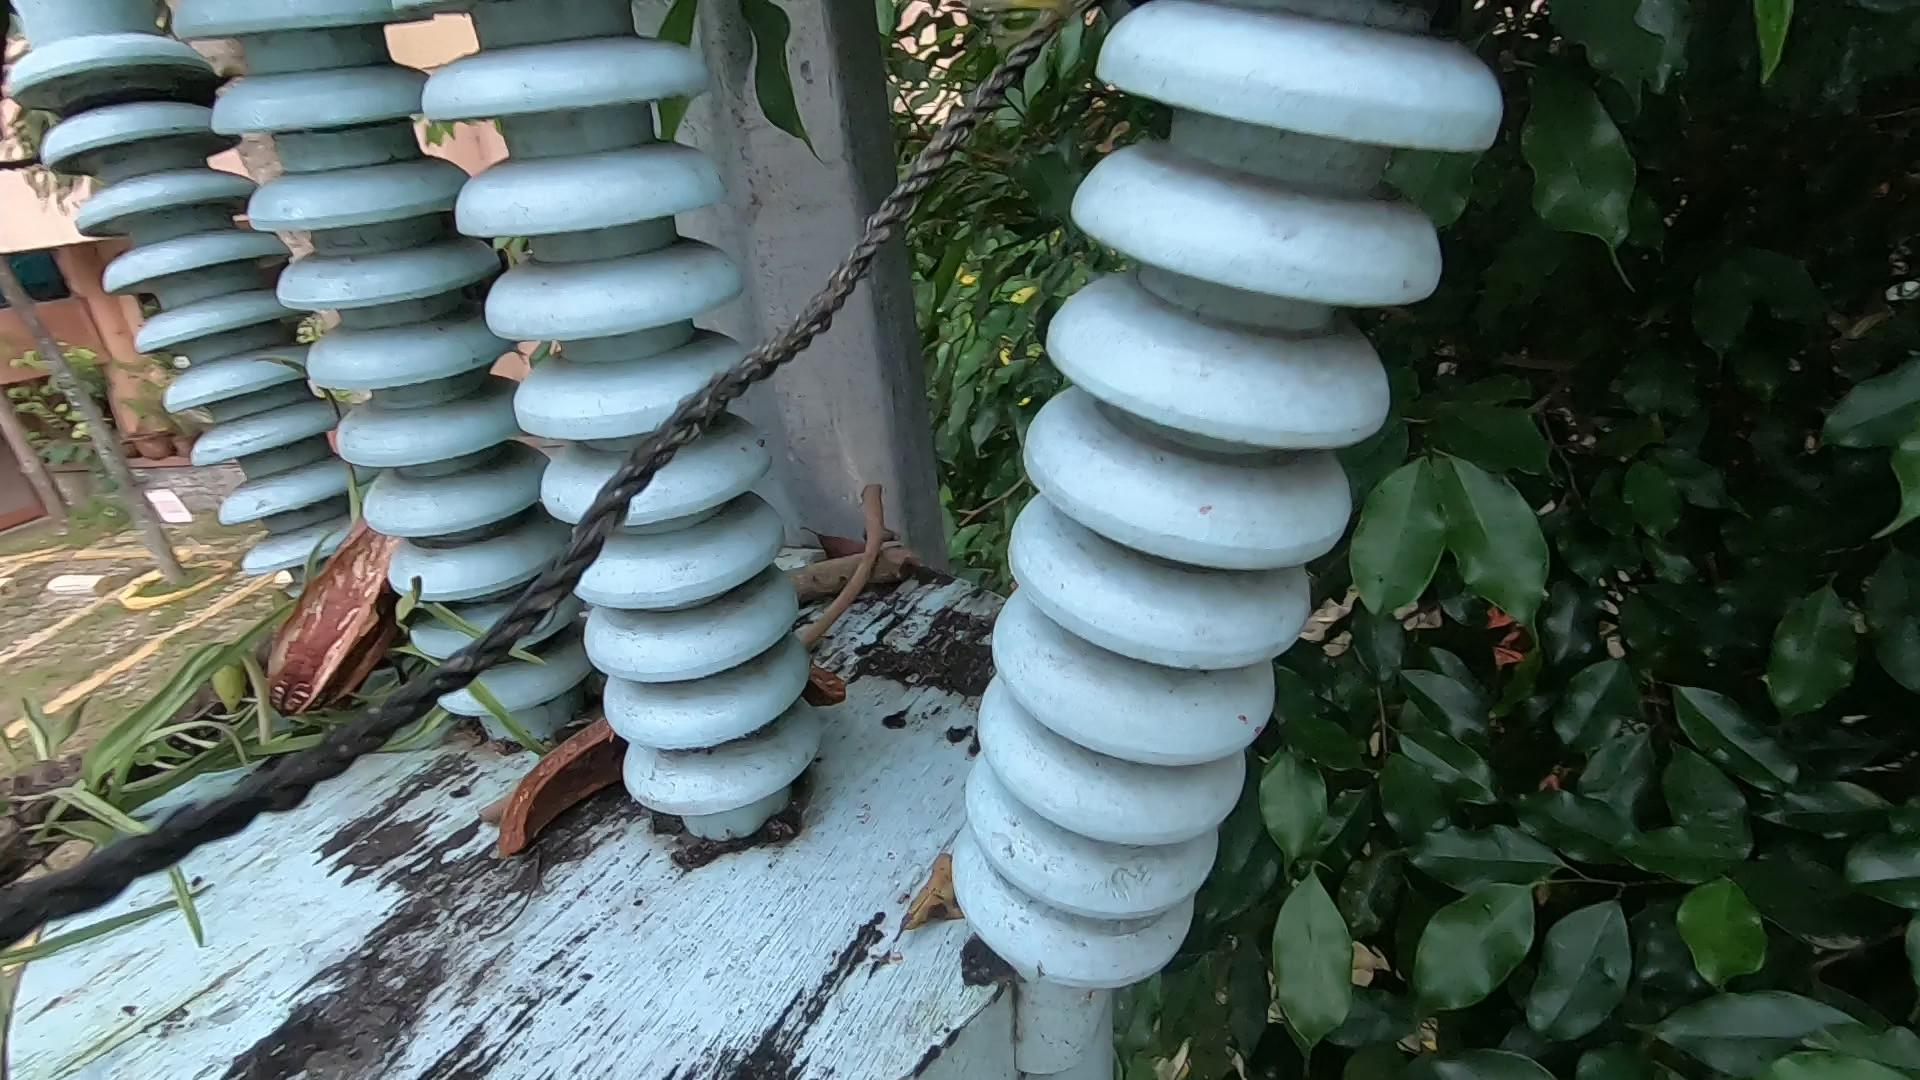branch with leaves: (20, 222, 909, 986)
leaf: (880, 822, 986, 982)
mahogany fruit: (258, 496, 414, 676), (520, 749, 687, 911)
tree branch: (440, 433, 880, 849)
